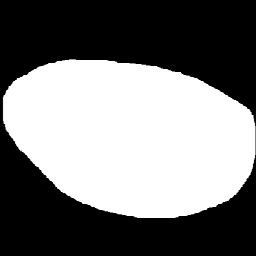mass: (7, 63, 252, 213)
